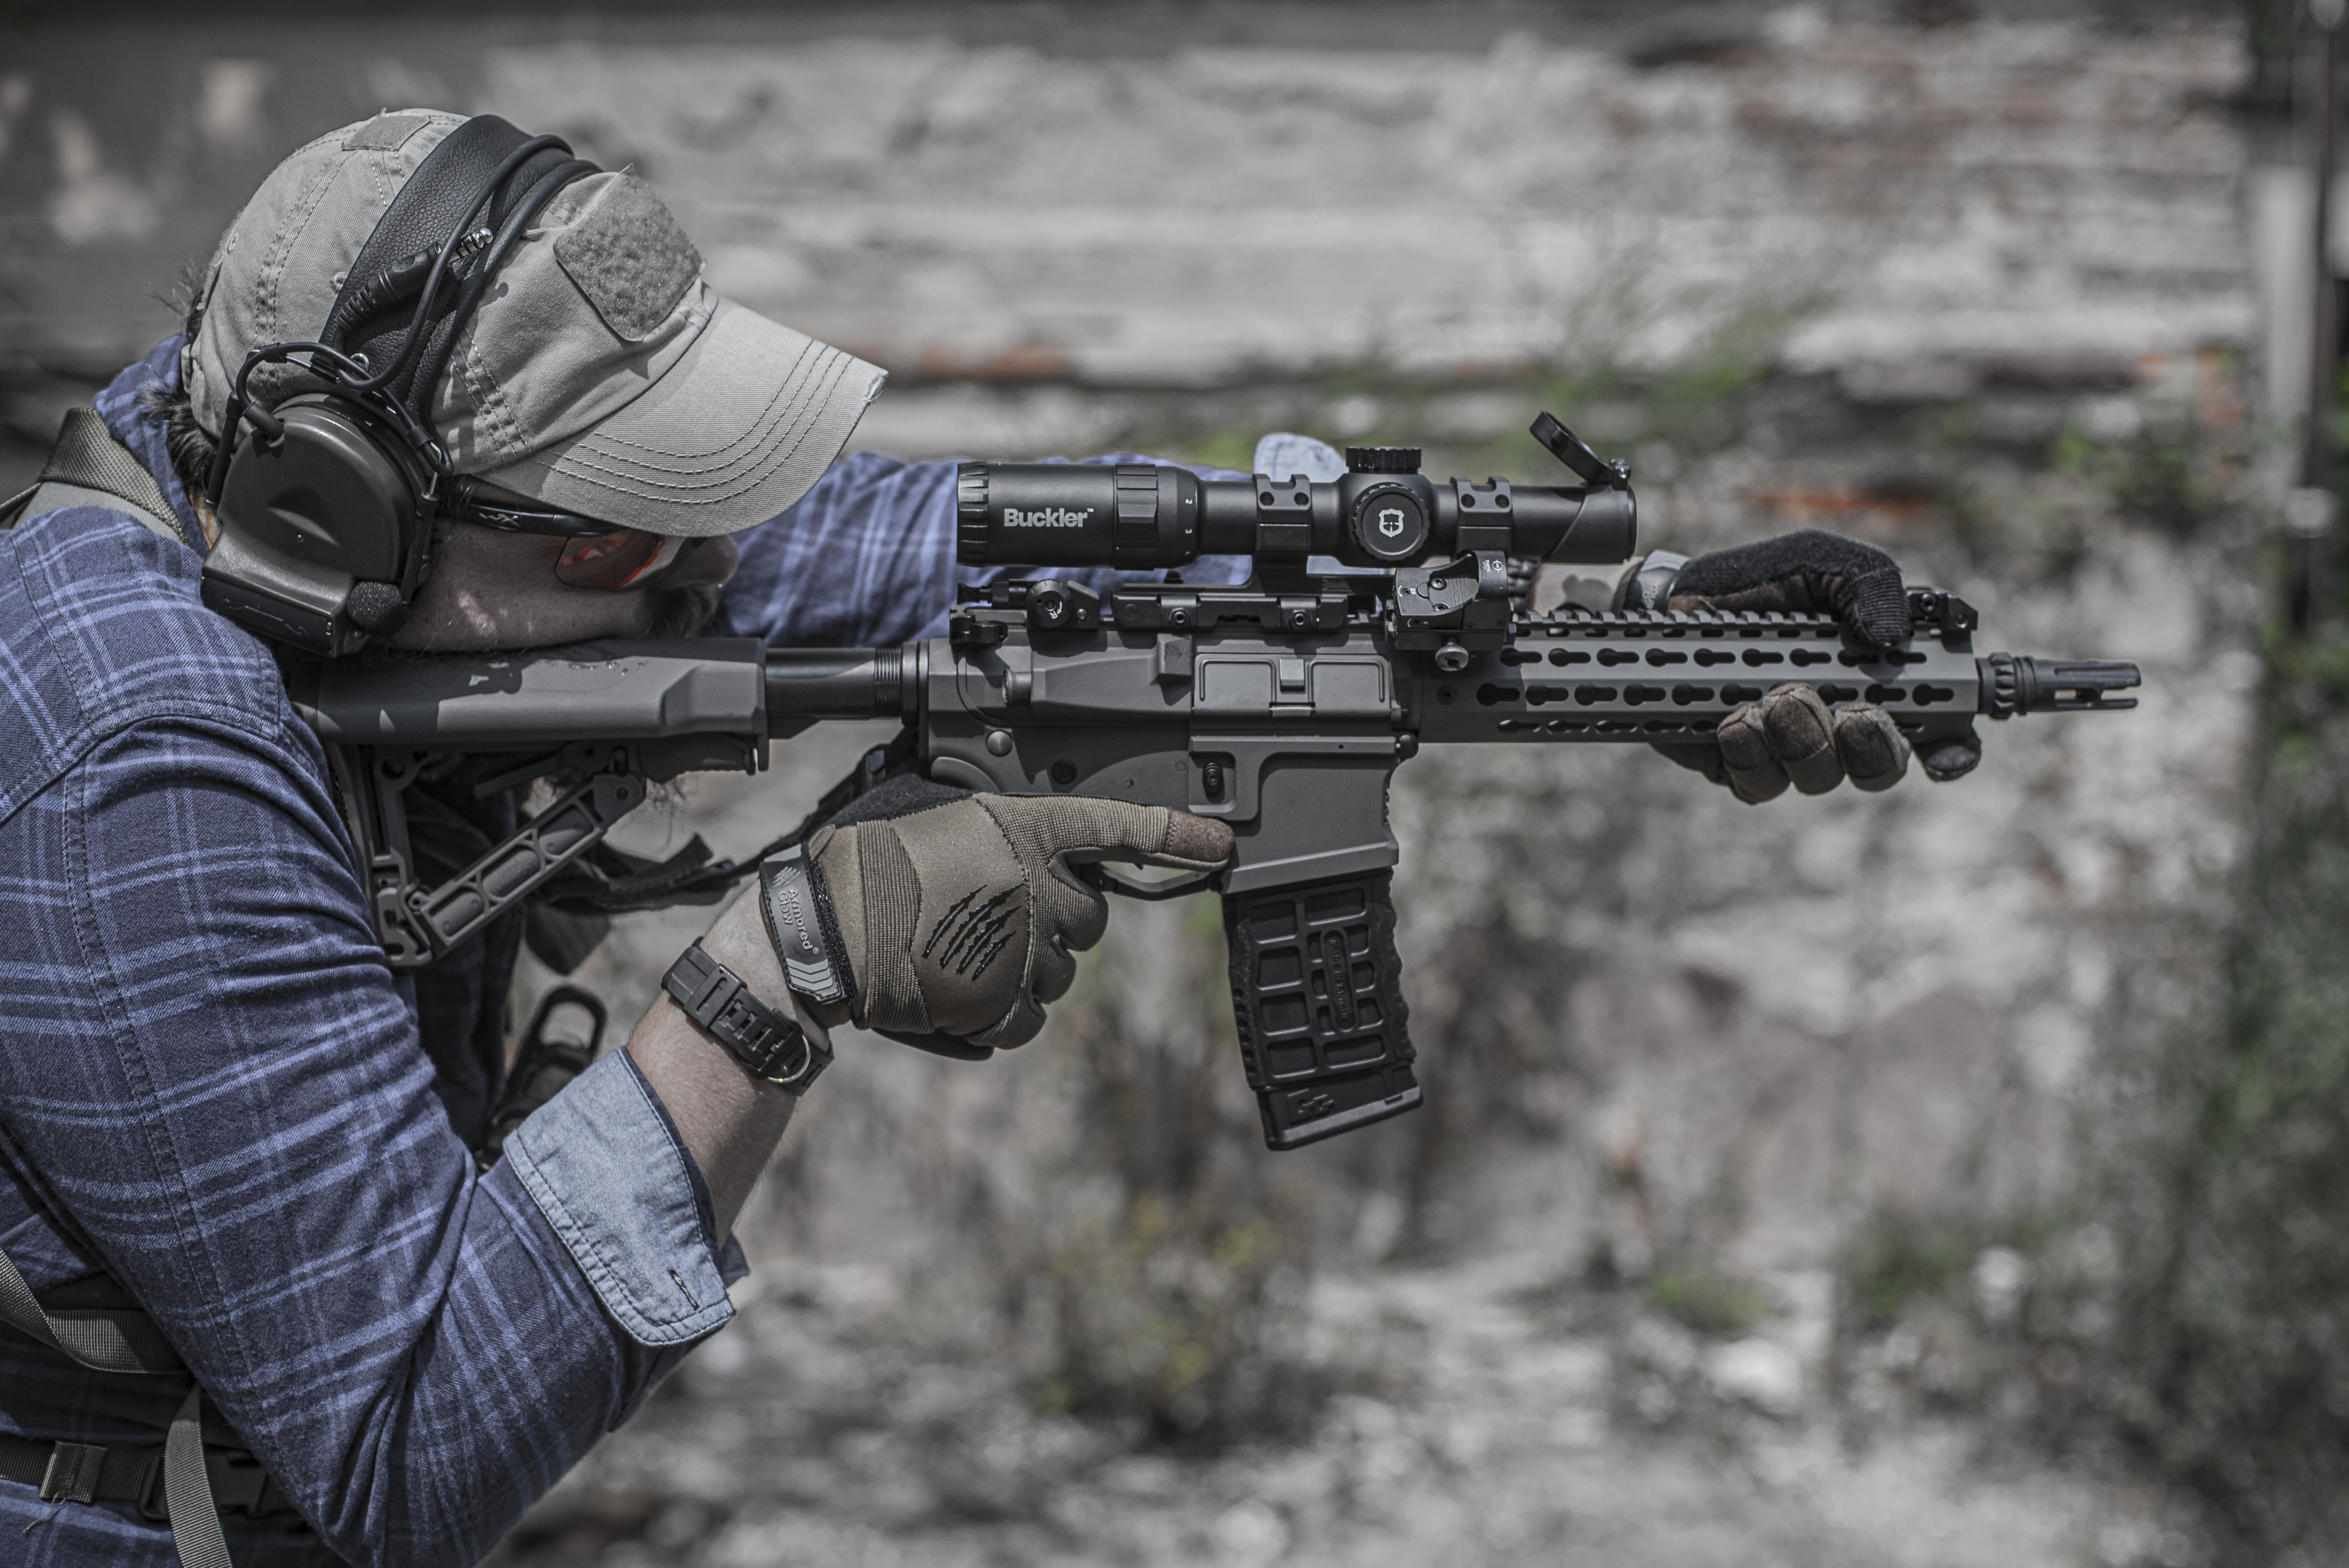Gun: (375, 334, 2149, 1164)
